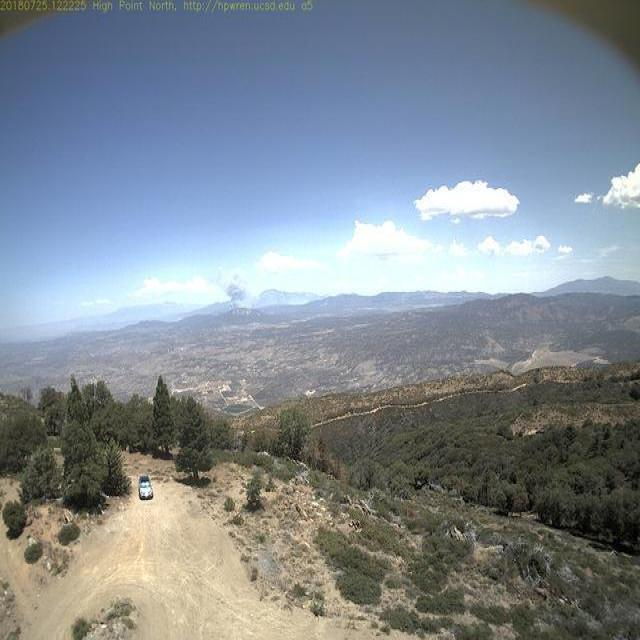smoke: (216, 271, 311, 320)
